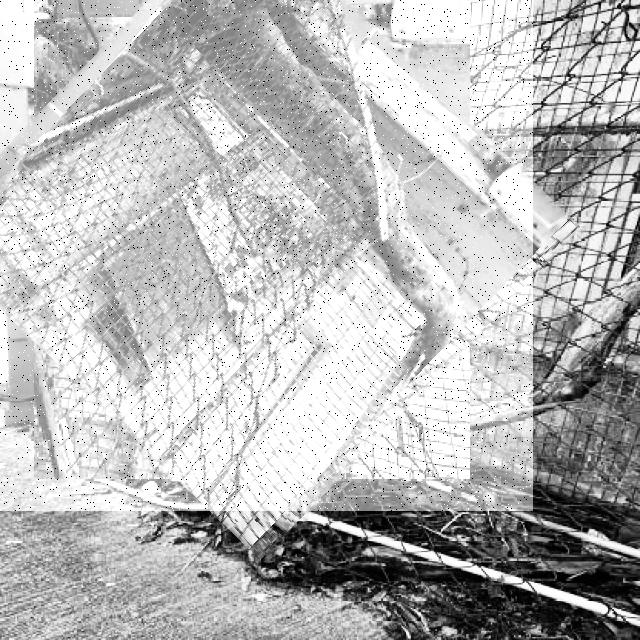anomaly-fence: (0, 0, 533, 511)
